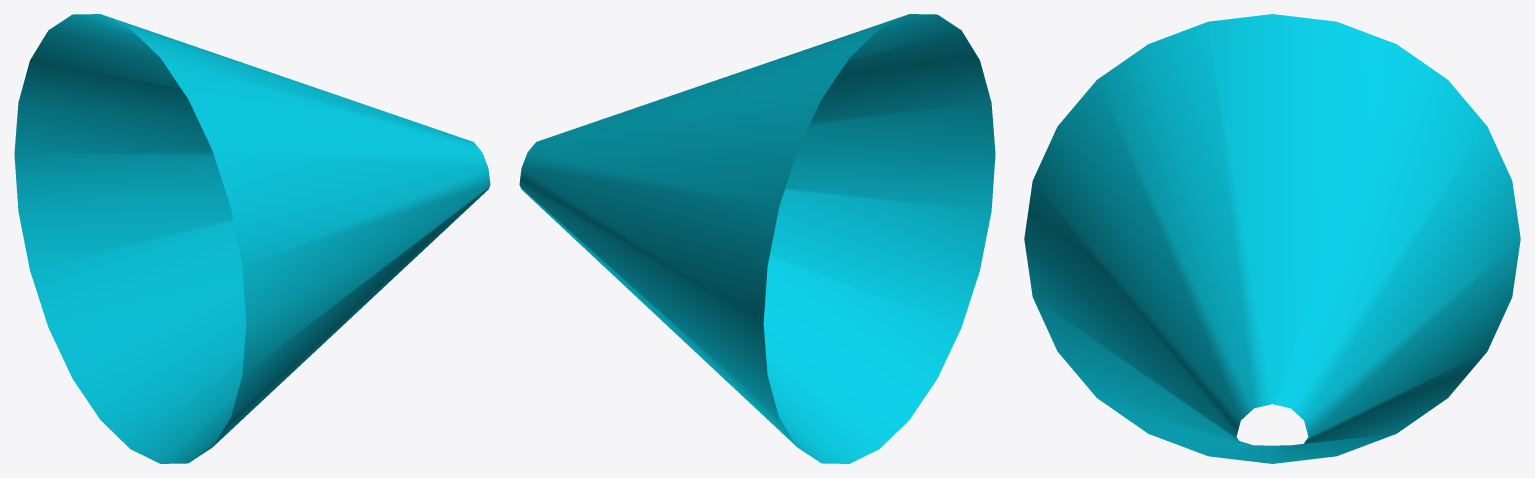
File: transFlightCone.fbx
The picture shows the model from 3 angles, left to right: view 1: azimuth 30°, elevation 25°; view 2: azimuth 150°, elevation 25°; view 3: azimuth 270°, elevation 25°; orthographic projection. The views are drawn at different scales.
Parts seen in each view (by area): view 1: transFlightCone; view 2: transFlightCone; view 3: transFlightCone.
Part boxes in pixels (bbox=[...]): transFlightCone: bbox=[14, 14, 490, 463]; transFlightCone: bbox=[519, 14, 995, 463]; transFlightCone: bbox=[1024, 14, 1520, 463].
Size of the model in its own units: 0.9829 by 1.15 by 1.15.
